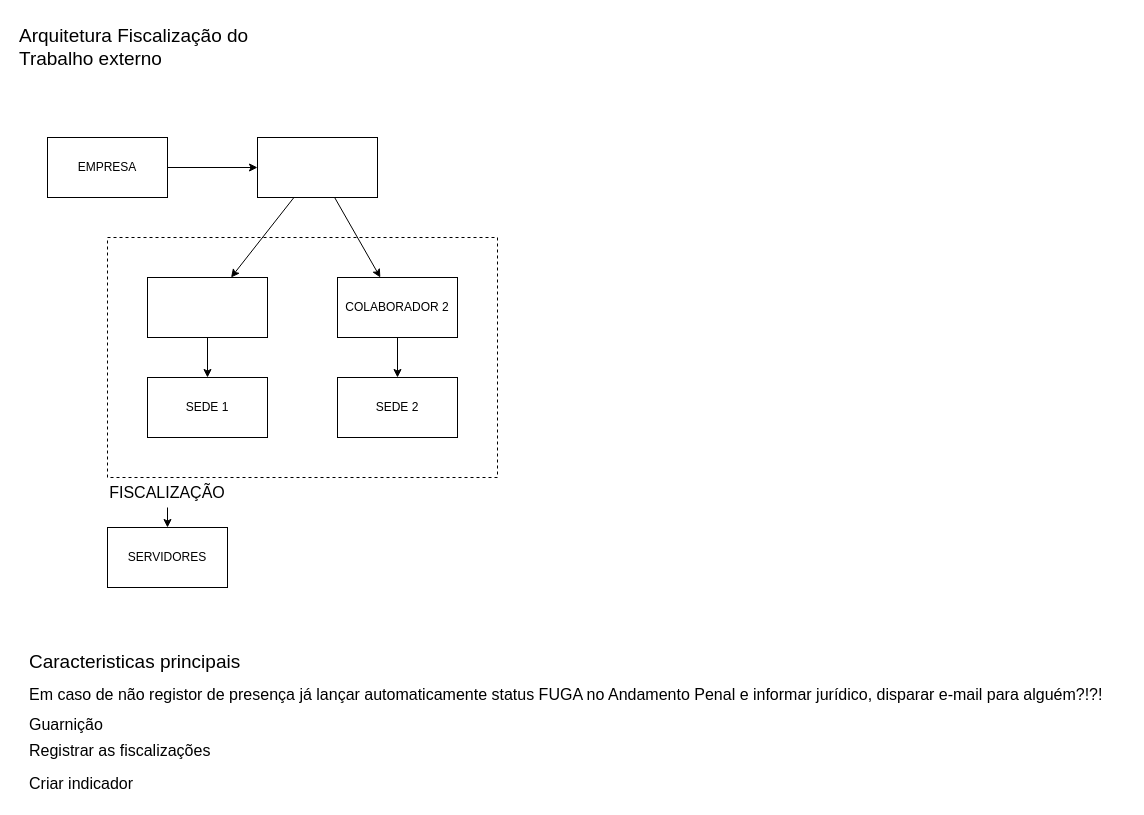
The diagram is 1144 pixels wide and 815 high, and some of its shapes have lost their labels. The centre of each missing label's shape, as x and y in pixels:
"COLABORADOR 1" belongs at point (207, 307).
"CONVÊNIO 1" belongs at point (317, 167).
